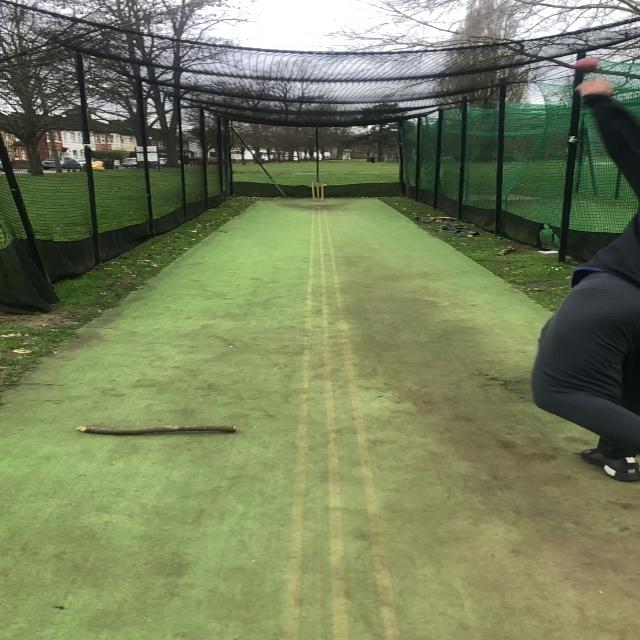ball: (575, 58, 598, 74)
